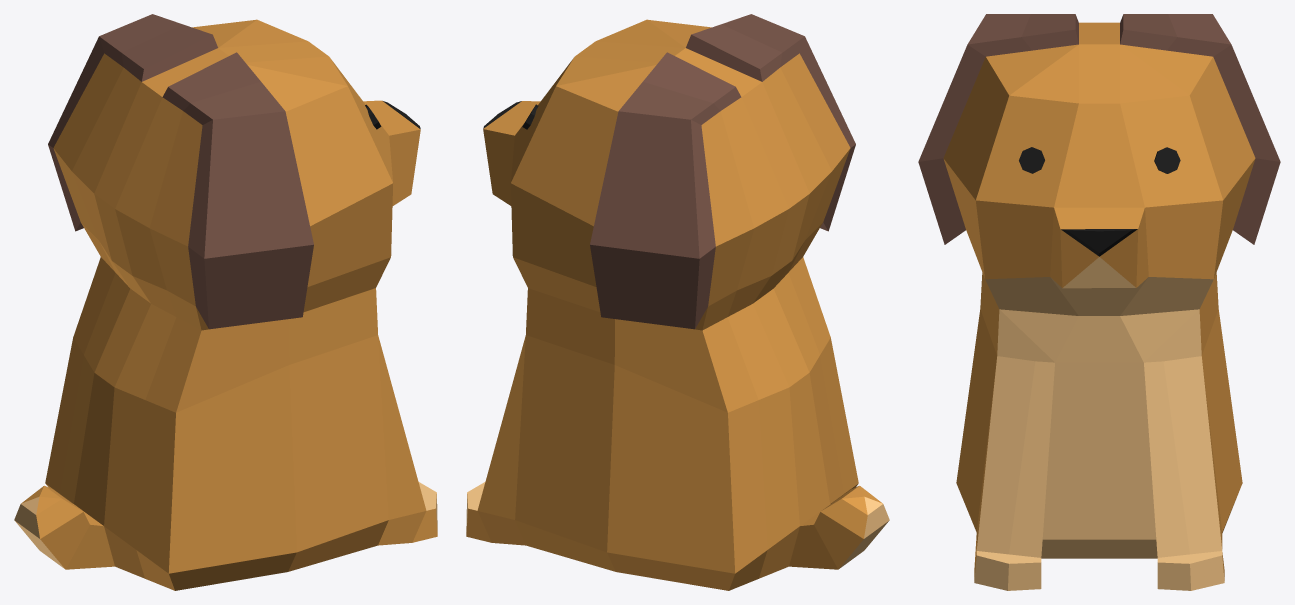
File: Puppy_01.obj
The picture shows the model from 3 angles, left to right: view 1: azimuth 30°, elevation 25°; view 2: azimuth 150°, elevation 25°; view 3: azimuth 270°, elevation 25°; orthographic projection.
Parts seen in each view (by area): view 1: Puppy_Cube.029; view 2: Puppy_Cube.029; view 3: Puppy_Cube.029.
Boxes of the visible parts, x1=… form: Puppy_Cube.029: x1=14, y1=14, x2=437, y2=590; Puppy_Cube.029: x1=466, y1=14, x2=889, y2=590; Puppy_Cube.029: x1=918, y1=14, x2=1280, y2=590.
Size of the model in its own units: 5.74 by 7 by 4.78.
